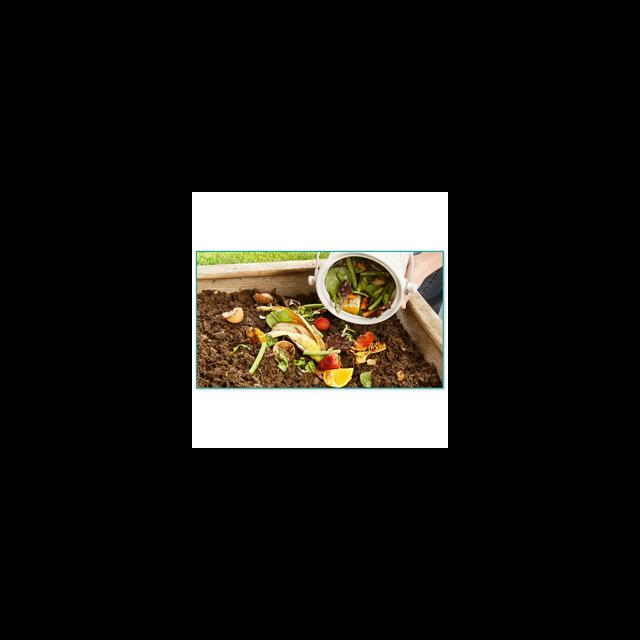food_waste: (247, 290, 355, 388), (327, 260, 394, 315), (350, 334, 377, 362), (223, 307, 244, 323), (358, 370, 373, 387), (315, 318, 330, 331)
